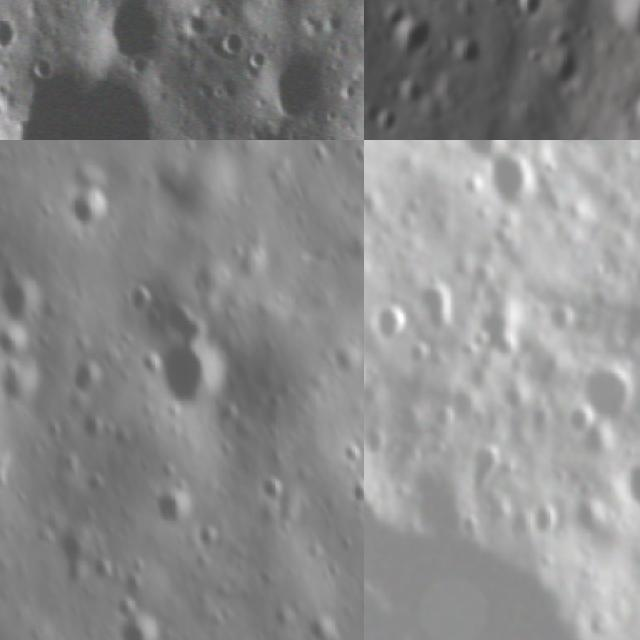crater: (11, 69, 160, 140), (149, 348, 236, 418), (257, 51, 324, 119), (482, 154, 534, 222), (410, 267, 463, 332), (583, 364, 640, 424), (157, 296, 219, 348), (0, 271, 49, 328), (365, 290, 416, 338), (385, 14, 433, 64), (64, 187, 115, 232), (0, 359, 48, 405), (461, 444, 506, 491), (148, 486, 195, 530), (534, 298, 579, 343), (0, 316, 38, 364), (0, 5, 33, 56), (526, 502, 558, 551), (303, 608, 347, 640), (115, 608, 157, 640), (72, 357, 105, 396), (453, 31, 488, 67), (328, 341, 364, 376), (489, 376, 524, 411), (193, 522, 229, 556), (567, 402, 603, 436), (614, 0, 640, 46), (453, 140, 499, 166), (255, 471, 287, 507), (120, 280, 151, 316), (623, 453, 640, 514), (76, 411, 107, 444), (214, 26, 246, 55), (335, 437, 364, 469), (513, 0, 550, 24), (340, 475, 364, 512), (370, 107, 402, 134), (630, 85, 640, 131)
